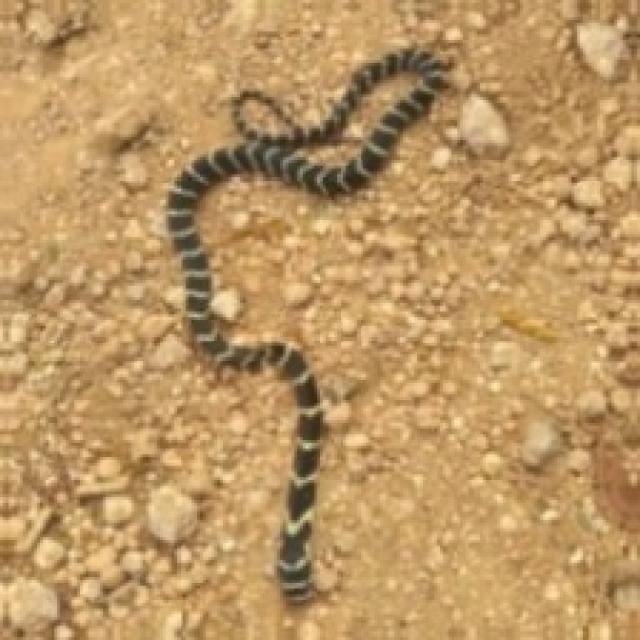king cobra: (166, 46, 446, 600)
